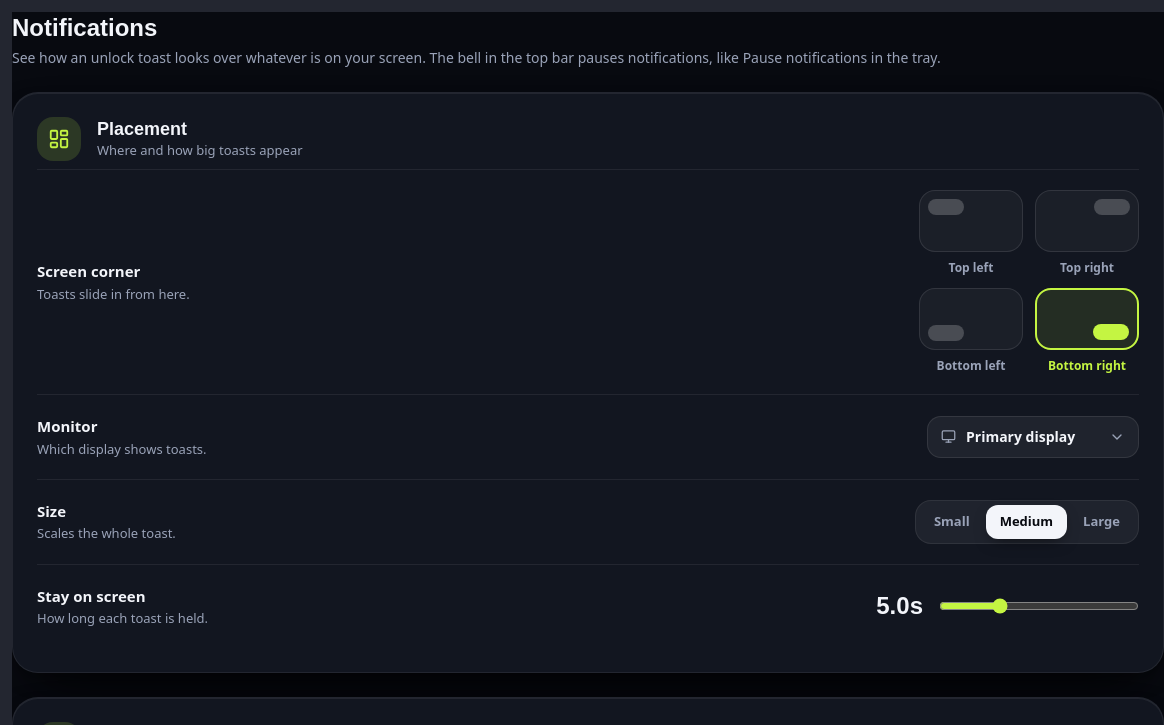
NotificationsCard › shows the duration and saves a new one
The width and height of the screenshot is (1164, 725).
Expected: the heading "Placement" is shown, [97,119,187,139]
Set the slider named "Stay on screen" to "8.5" at [1046, 606], box [939,598,1139,614]
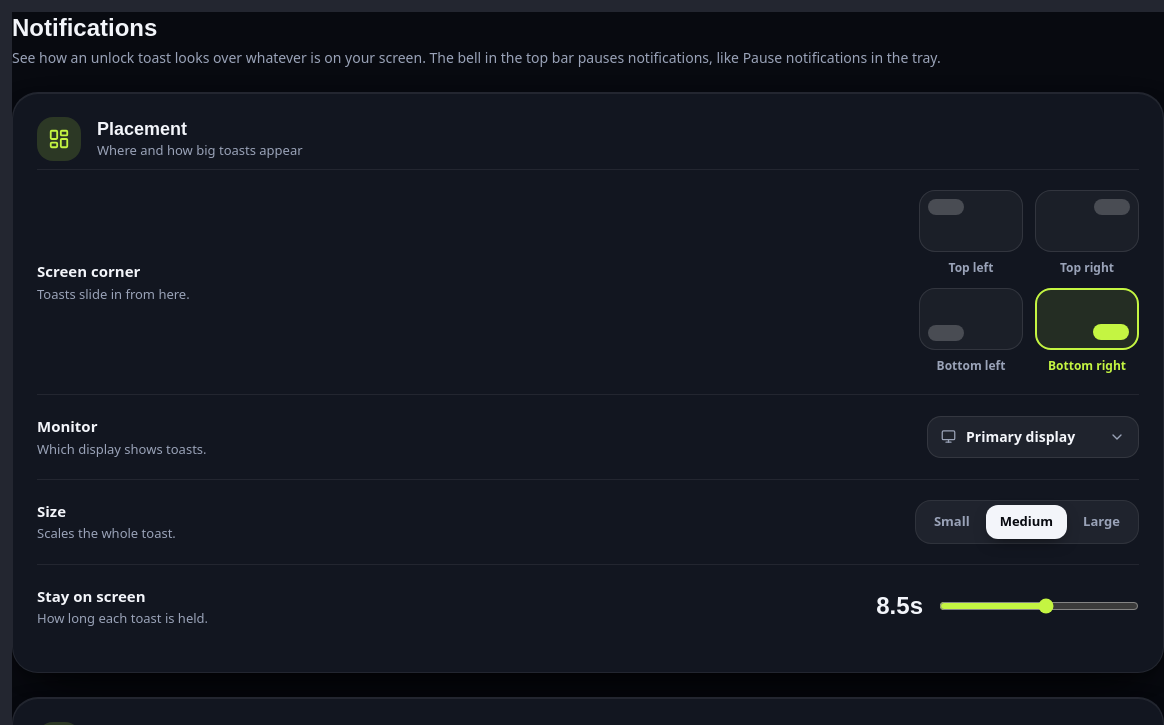
Now the text "8.5s" is shown, box [876,592,923,619]
